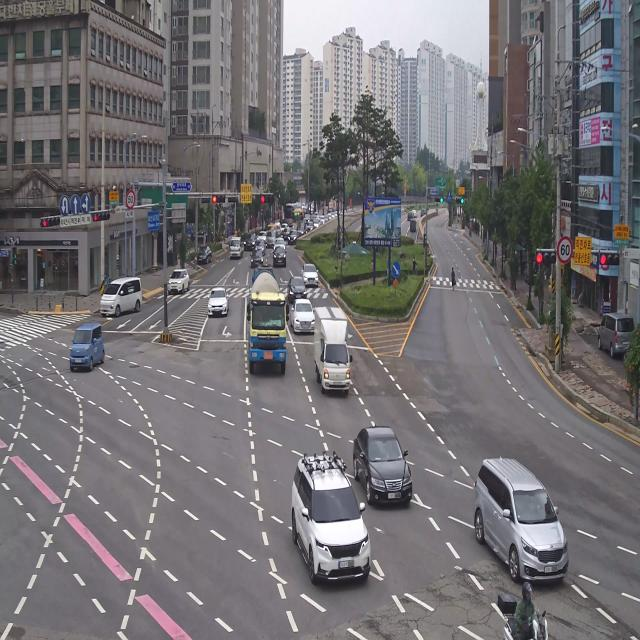Bus: (285, 201, 298, 224), (293, 207, 304, 226)
Car: (271, 432, 375, 599), (468, 447, 572, 594), (348, 418, 419, 513), (59, 316, 107, 385), (595, 304, 636, 361), (97, 272, 145, 320), (202, 278, 231, 322), (290, 297, 318, 341), (522, 253, 546, 289), (286, 272, 308, 303), (167, 266, 190, 295), (301, 259, 319, 289), (194, 241, 213, 265), (243, 227, 258, 252), (248, 248, 264, 268), (273, 246, 287, 267), (288, 229, 299, 246), (257, 228, 268, 244), (255, 238, 266, 253), (274, 236, 285, 250), (267, 230, 275, 247), (275, 220, 282, 236), (420, 206, 427, 220), (266, 223, 276, 232), (410, 208, 418, 219), (296, 225, 304, 236), (407, 208, 413, 222), (284, 226, 290, 238), (280, 222, 287, 232)
Motorcycle: (498, 563, 548, 640)
Truck: (241, 267, 290, 377), (313, 305, 353, 399), (227, 233, 244, 260), (408, 218, 417, 233)
